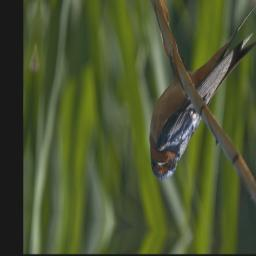Swallow: (146, 0, 256, 196)
